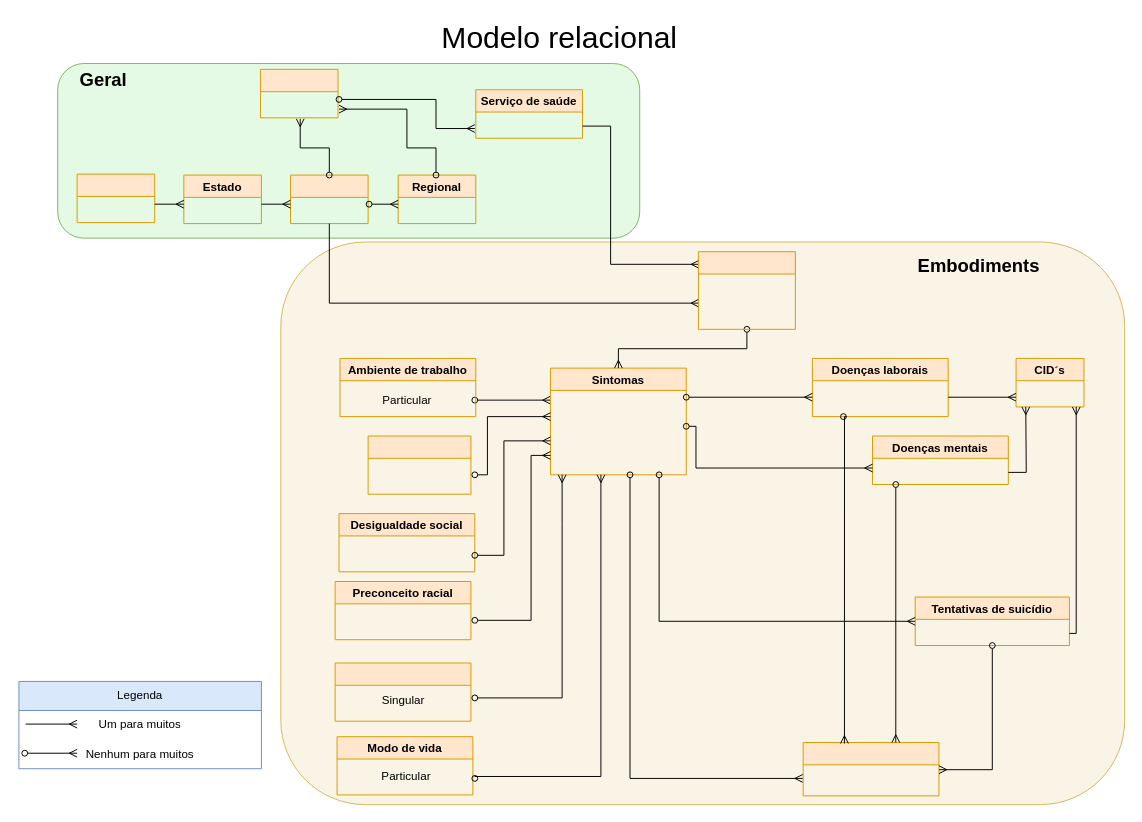
Some shapes in this 1142 by 822 pixel diagram are drawn without their labels. Here are the shapes that lost their labels. From the top down, the box of each, then its label:
(259, 68, 338, 118): Bairro
(76, 173, 155, 223): Região
(290, 174, 368, 224): Cidade
(697, 251, 795, 329): Pessoa
(367, 435, 471, 494): Moradia
(334, 662, 471, 721): Estilo de vida
(802, 742, 939, 796): Suicídios
